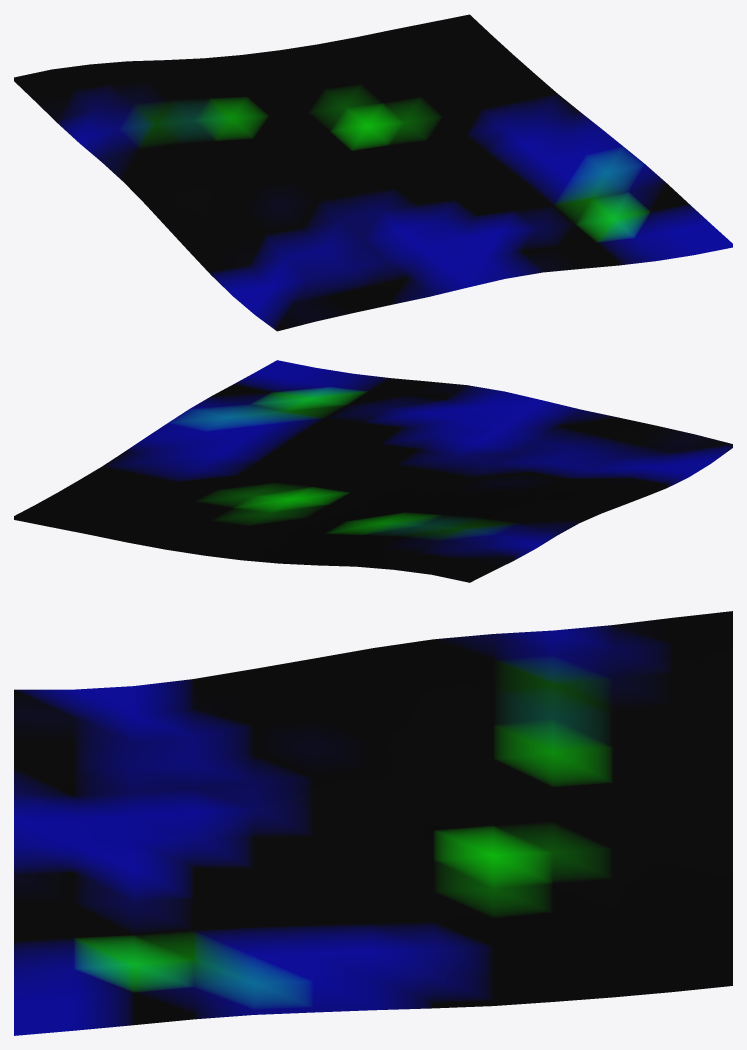
The model's file is coast_4_0.glb.
3 renders of one model, top to bottom at view 1: azimuth 30°, elevation 25°; view 2: azimuth 150°, elevation 25°; view 3: azimuth 270°, elevation 25°, orthographic. The views are drawn at different scales.
Visible parts, largest first — view 1: terrain; view 2: terrain; view 3: terrain.
Part boxes in pixels (x1,y1,x2,y2): terrain: (14,14,732,331); terrain: (14,360,732,582); terrain: (14,611,732,1035).
Size of the model in its own units: 192 by 35.66 by 192.
